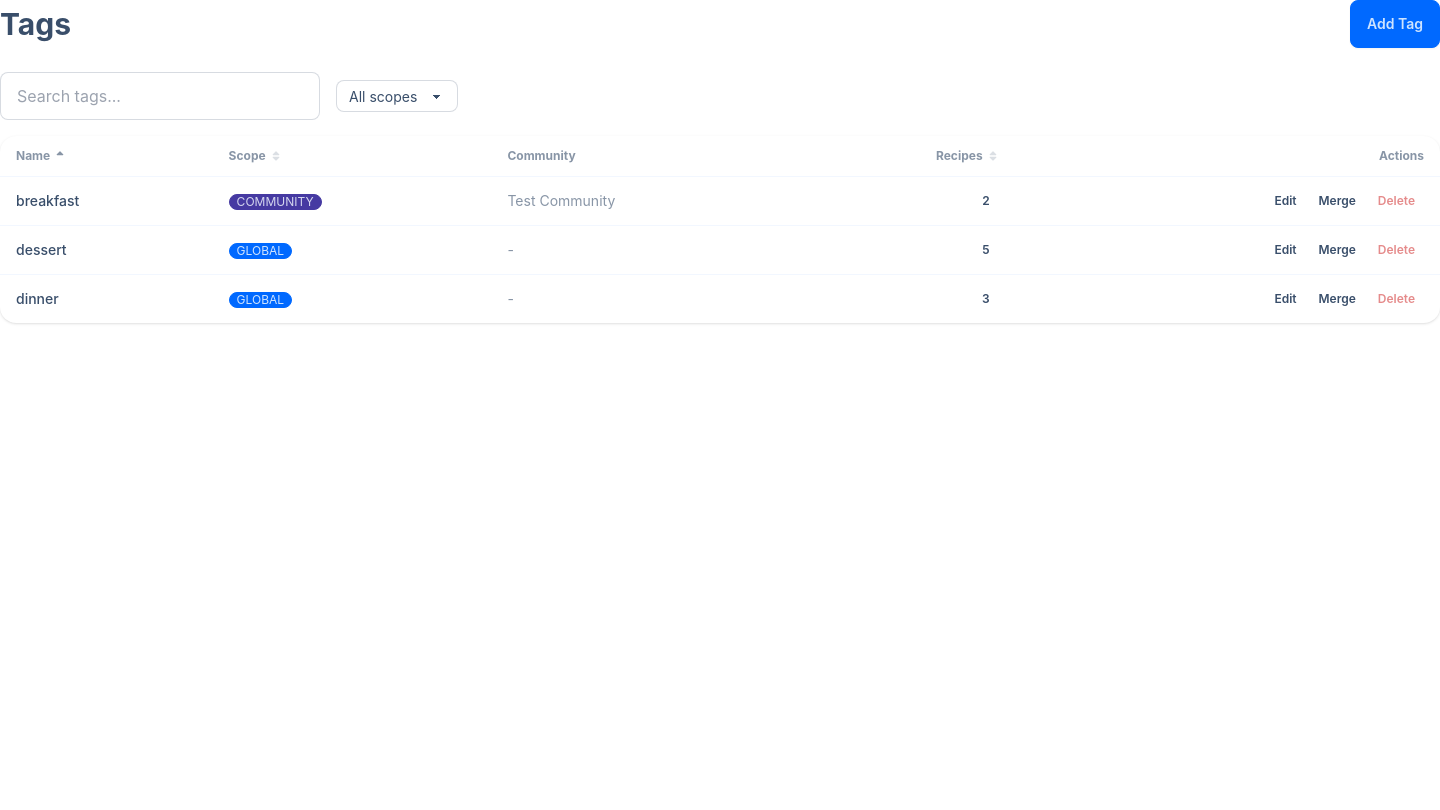
it: AdminTagsPage › should open create modal when Add Tag is clicked
What coordinates should you click on to do the following:
click the button "Add Tag"
I would click on:
 (1395, 24)
Its box is top-left (1350, 0), bottom-right (1439, 48).
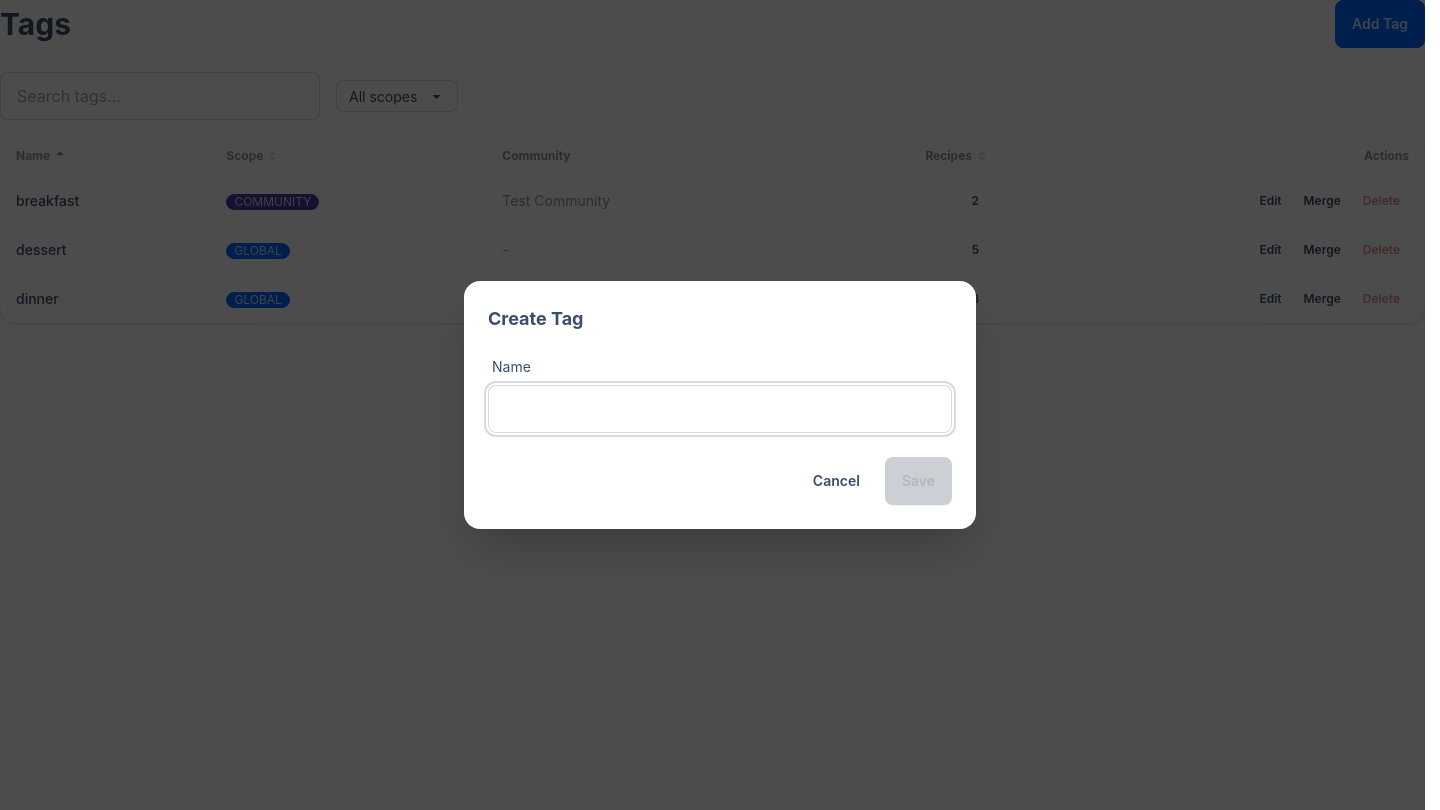
Expected: the heading "Create Tag" is shown, top-left (488, 308), bottom-right (584, 329)
